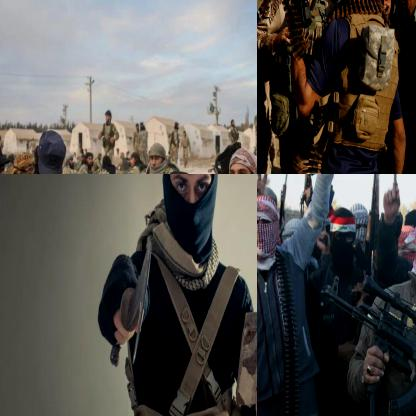knife: (110, 238, 154, 367)
rifle: (320, 273, 415, 415), (363, 174, 385, 277), (298, 174, 320, 210)
